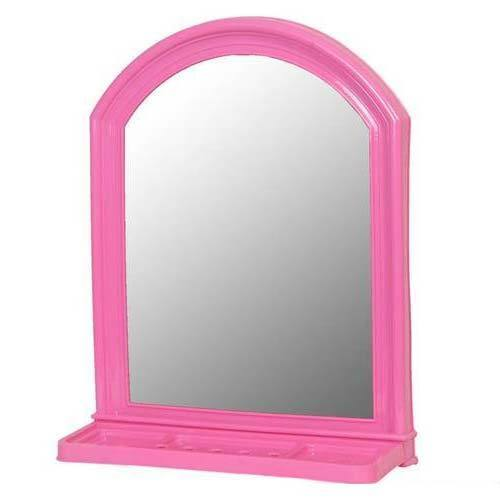Nonrec_Glass: (21, 10, 454, 479)
